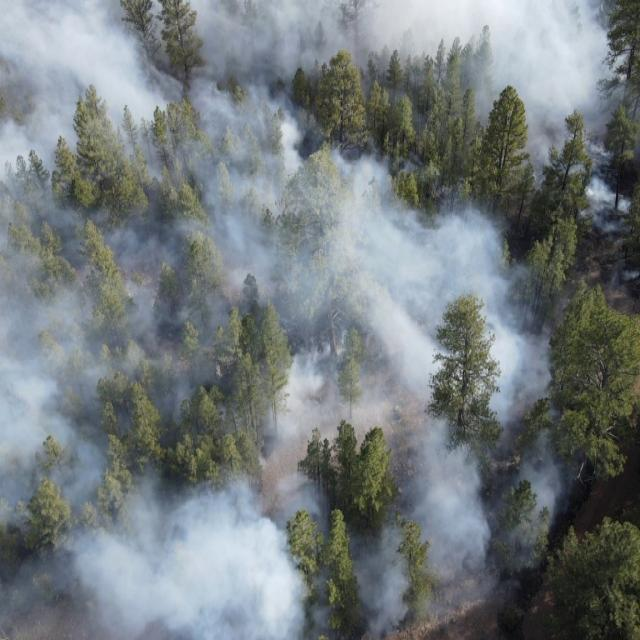smoke: (0, 205, 564, 640), (0, 0, 307, 202), (308, 0, 639, 88), (526, 88, 640, 174), (308, 138, 444, 204), (580, 178, 635, 236), (472, 86, 502, 126), (610, 269, 639, 286)
